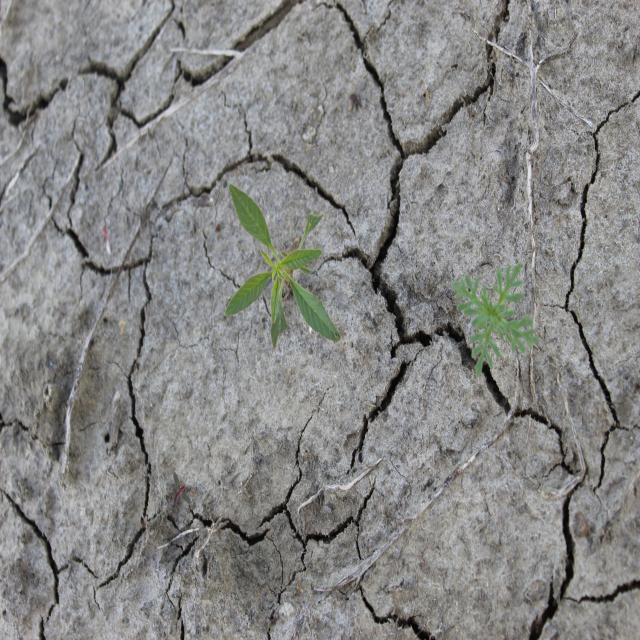Ragweed: (450, 262, 541, 378)
Waterhemp: (223, 183, 342, 349)
